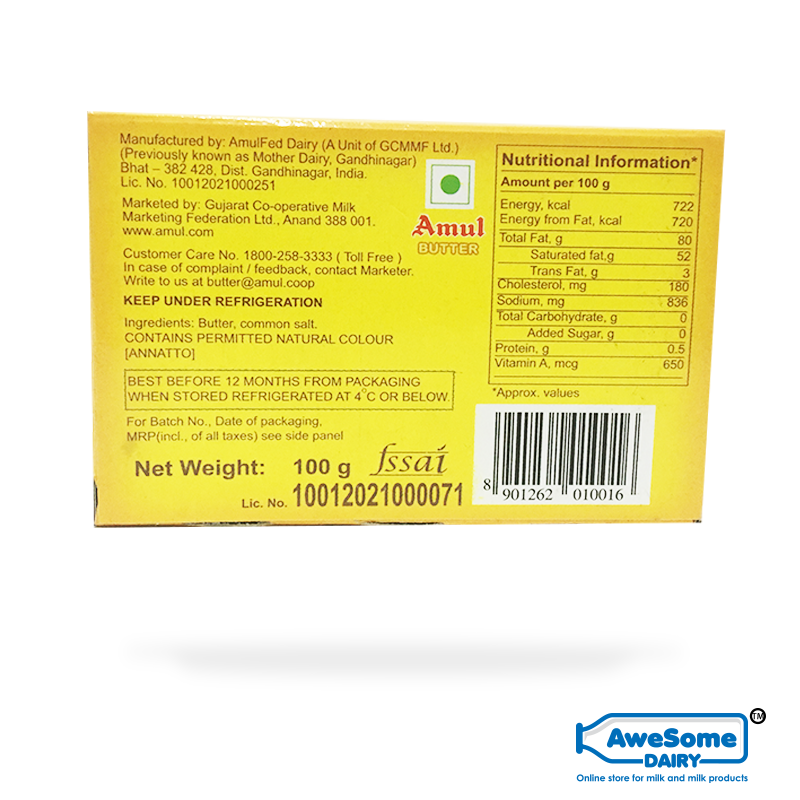VEG: (423, 155, 475, 213)
